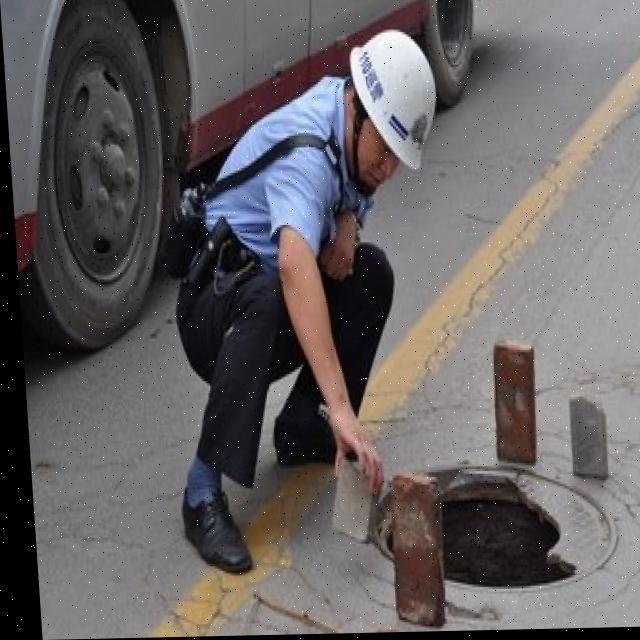manhole: (355, 437, 609, 596)
